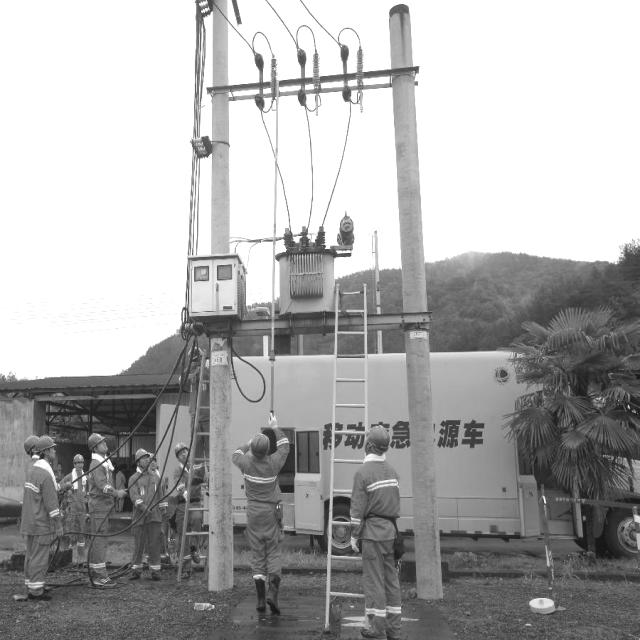hand_glove: (266, 412, 278, 434), (349, 535, 361, 557)
hand_noglove: (115, 486, 127, 499)
head_helmet: (360, 427, 390, 452), (248, 435, 272, 456), (88, 433, 104, 449), (40, 436, 55, 452), (187, 348, 201, 364), (21, 436, 35, 452), (133, 449, 146, 462), (174, 444, 188, 453), (72, 454, 84, 463)
person: (229, 418, 290, 618), (348, 420, 402, 638), (22, 440, 56, 600), (83, 433, 113, 591), (169, 440, 201, 581), (130, 447, 161, 580), (181, 348, 212, 449), (63, 453, 86, 562)
shoes: (264, 573, 283, 616), (249, 574, 268, 615), (92, 570, 116, 590), (26, 584, 52, 602), (128, 566, 142, 580), (148, 570, 163, 582)
vest: (354, 466, 399, 522), (26, 465, 56, 522), (245, 462, 278, 501), (188, 371, 212, 416), (133, 472, 159, 510), (90, 466, 113, 504), (63, 472, 88, 504), (176, 464, 198, 500)
